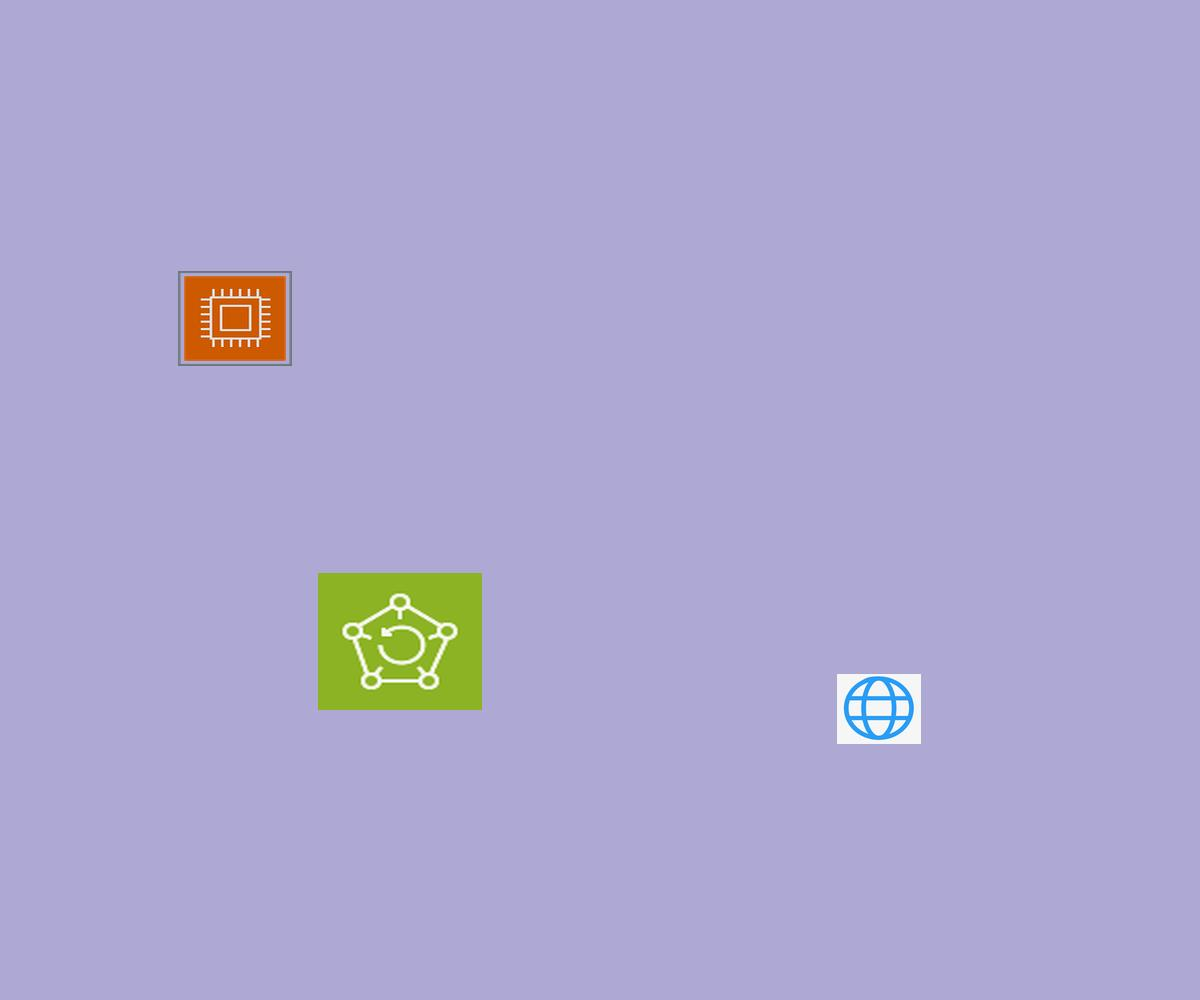AWS-Backup: (318, 573, 482, 710)
AWS-Category_Compute: (178, 271, 292, 366)
Azure_http: (837, 674, 921, 744)
